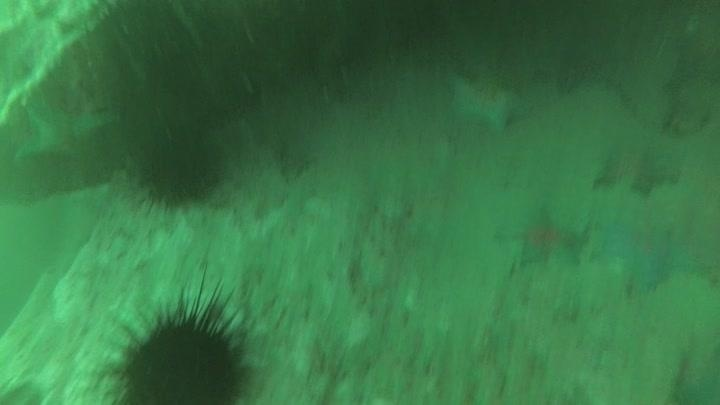echinus: (108, 285, 258, 404), (133, 124, 227, 210)
starfish: (589, 174, 718, 295), (13, 84, 119, 179), (494, 200, 591, 273), (443, 68, 535, 135), (589, 138, 682, 198)
